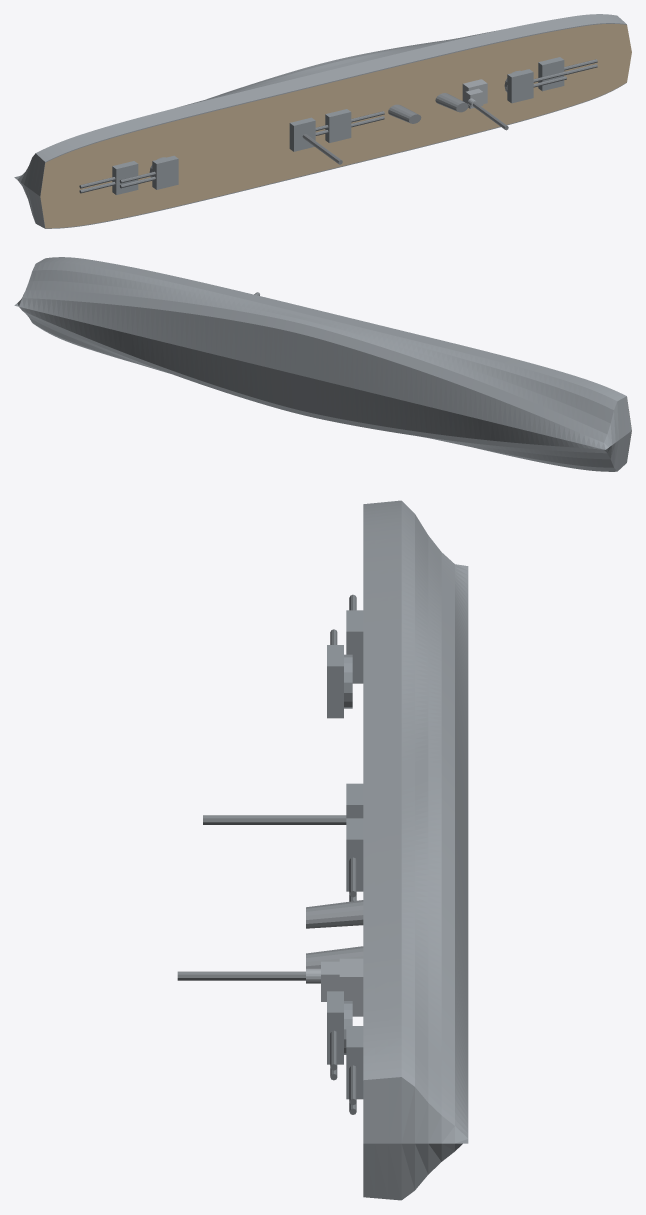
File: 扶桑型.glb
3 views of the same model, one above another, from view 1: azimuth 30°, elevation 25°; view 2: azimuth 150°, elevation 25°; view 3: azimuth 270°, elevation 25° (orthographic). The views are drawn at different scales.
Visible parts, largest first — view 1: 扶桑型; view 2: 扶桑型; view 3: 扶桑型.
Boxes of the visible parts, <box> form: 扶桑型: <box>14,14,631,228</box>; 扶桑型: <box>14,257,631,471</box>; 扶桑型: <box>177,500,468,1200</box>.
Size of the model in its own units: 195 by 29.31 by 41.5.
